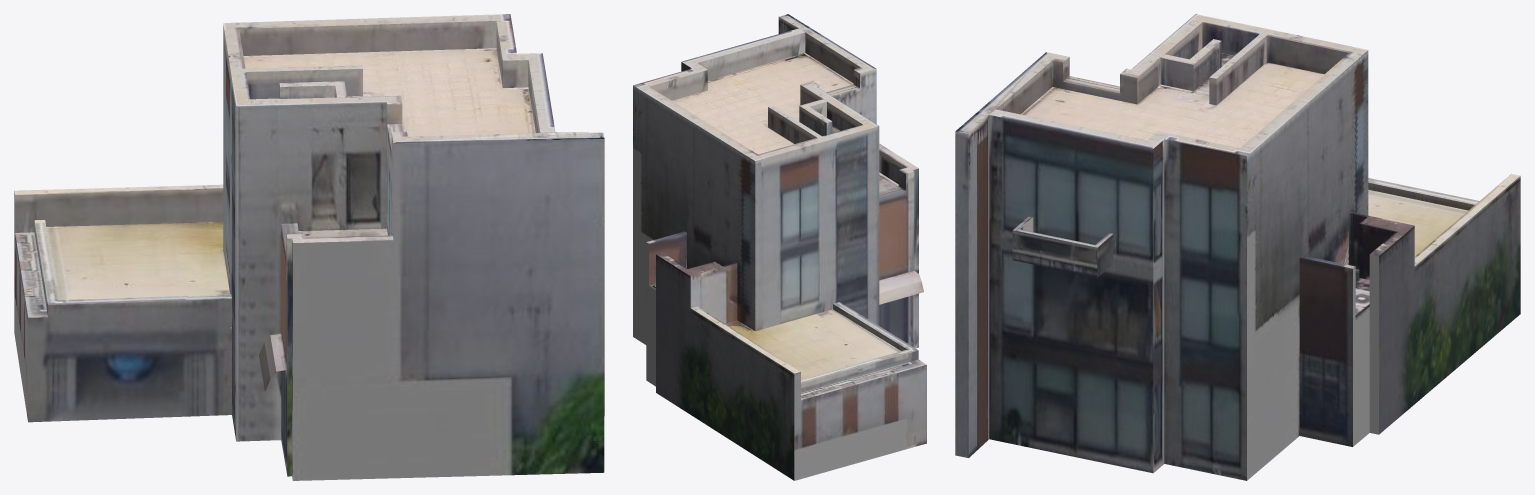
The picture shows the model from 3 angles, left to right: view 1: azimuth 30°, elevation 25°; view 2: azimuth 150°, elevation 25°; view 3: azimuth 270°, elevation 25°; orthographic projection. The views are drawn at different scales.
Visible parts, largest first — view 1: B287904031601063A0; view 2: B287904031601063A0; view 3: B287904031601063A0.
Part boxes in pixels (left/top/right/bottom): B287904031601063A0: left=14, top=14, right=604, bottom=480; B287904031601063A0: left=633, top=14, right=926, bottom=480; B287904031601063A0: left=955, top=14, right=1520, bottom=480.
Bounding box in the file's own units: 16.68 × 12.26 × 19.27.
1 material, 1 textured.
